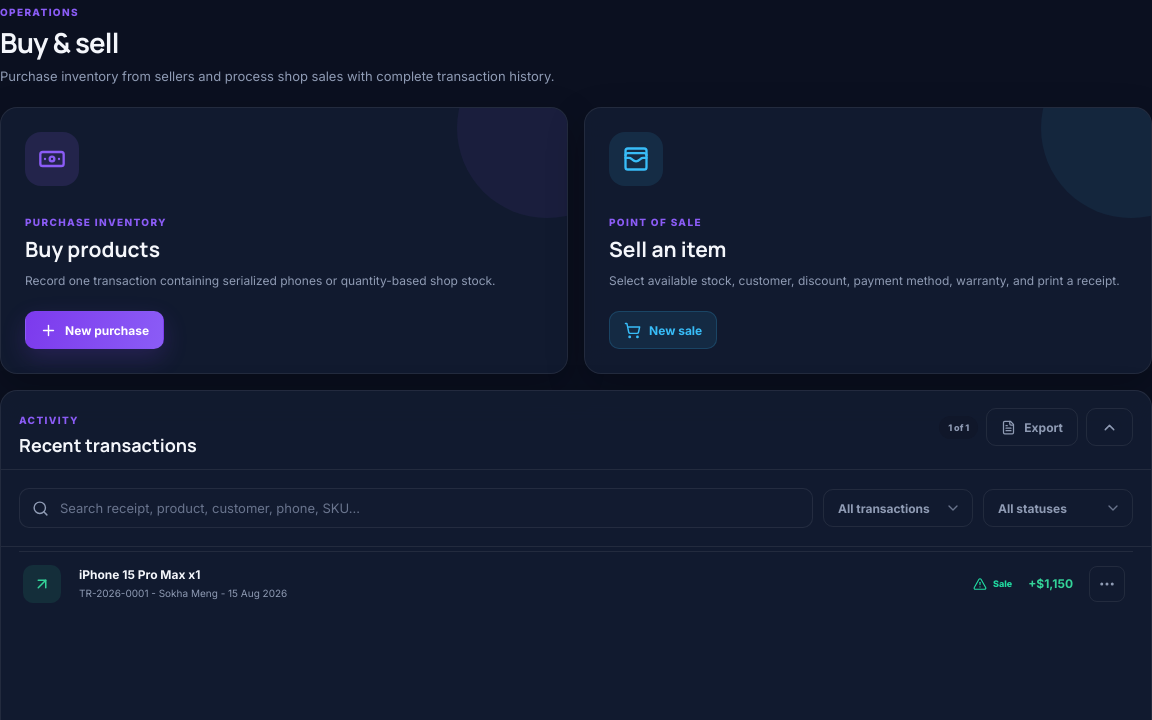
Test: TradePage feature integration › integrates with ReceiptCenterBridge dynamically injecting Print receipt button
Expected: the text "TR-2026-0001 - Sokha Meng - 15 Aug 2026" is shown, [79,587,287,599]
Click the button with aria-label "View TR-2026-0001".
click(42, 584)  # box [19,552,1133,616]
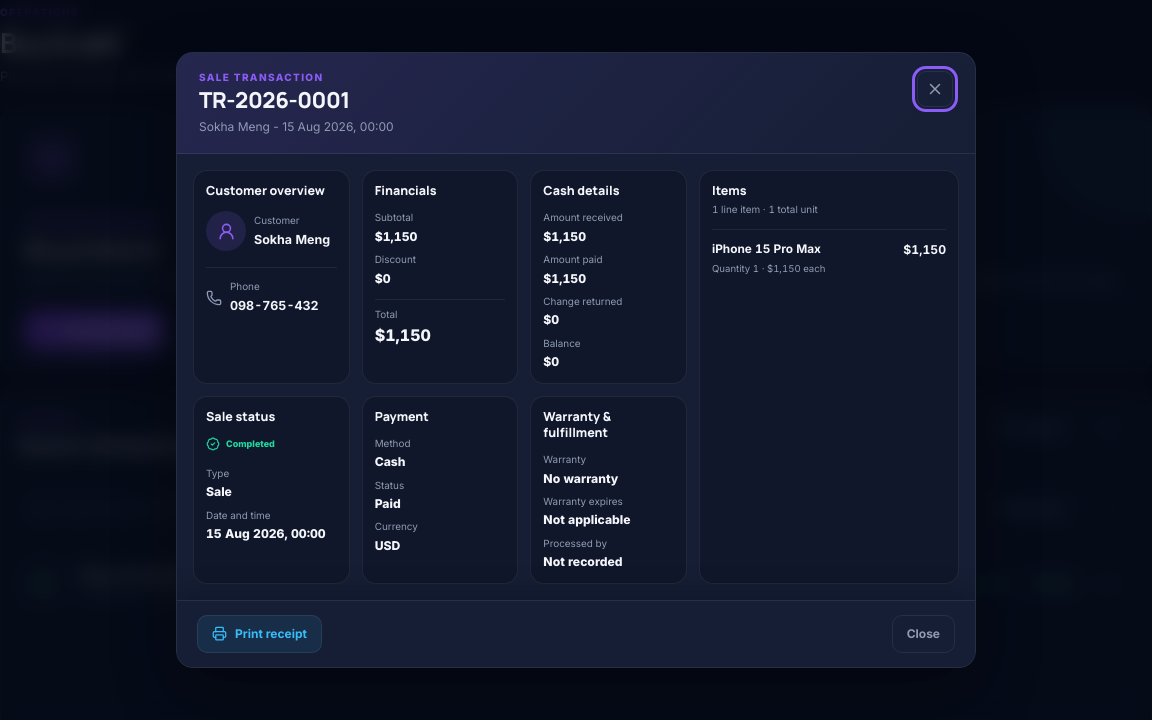
Expected: the dialog is shown, [176,52,976,668]
Expected: the button "Print receipt" is shown, [197,614,322,652]
